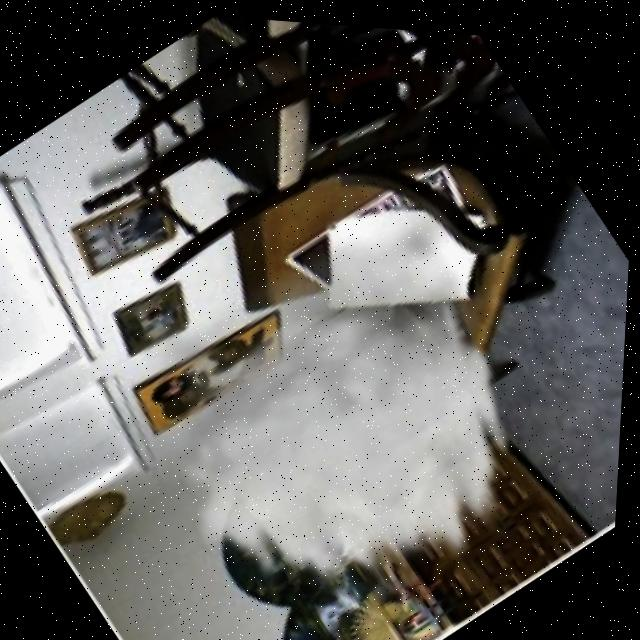Smoke: (85, 128, 625, 640)
